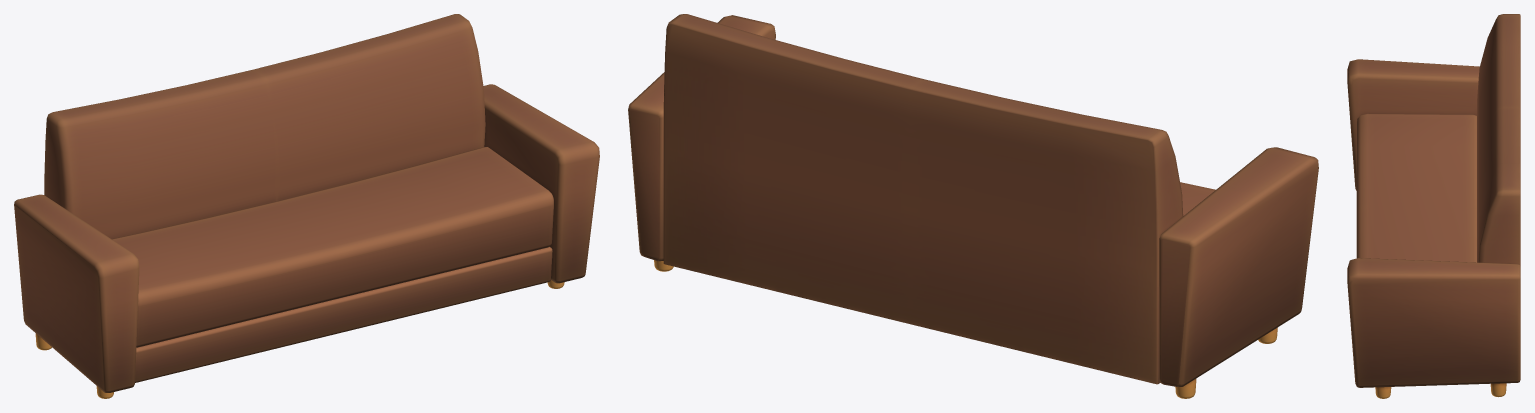
File: OfficeSofa01_1.FBX
3 renders of one model, left to right at view 1: azimuth 30°, elevation 25°; view 2: azimuth 150°, elevation 25°; view 3: azimuth 270°, elevation 25°, orthographic. The views are drawn at different scales.
Visible parts, largest first — view 1: OfficeSofa01_1; view 2: OfficeSofa01_1; view 3: OfficeSofa01_1.
Part boxes in pixels (x1,y1,x2,y2): OfficeSofa01_1: [14, 14, 599, 398]; OfficeSofa01_1: [628, 14, 1318, 398]; OfficeSofa01_1: [1347, 14, 1520, 398].
Size of what is drawn, in the model's own units: 3.2 by 1.35 by 1.08.
